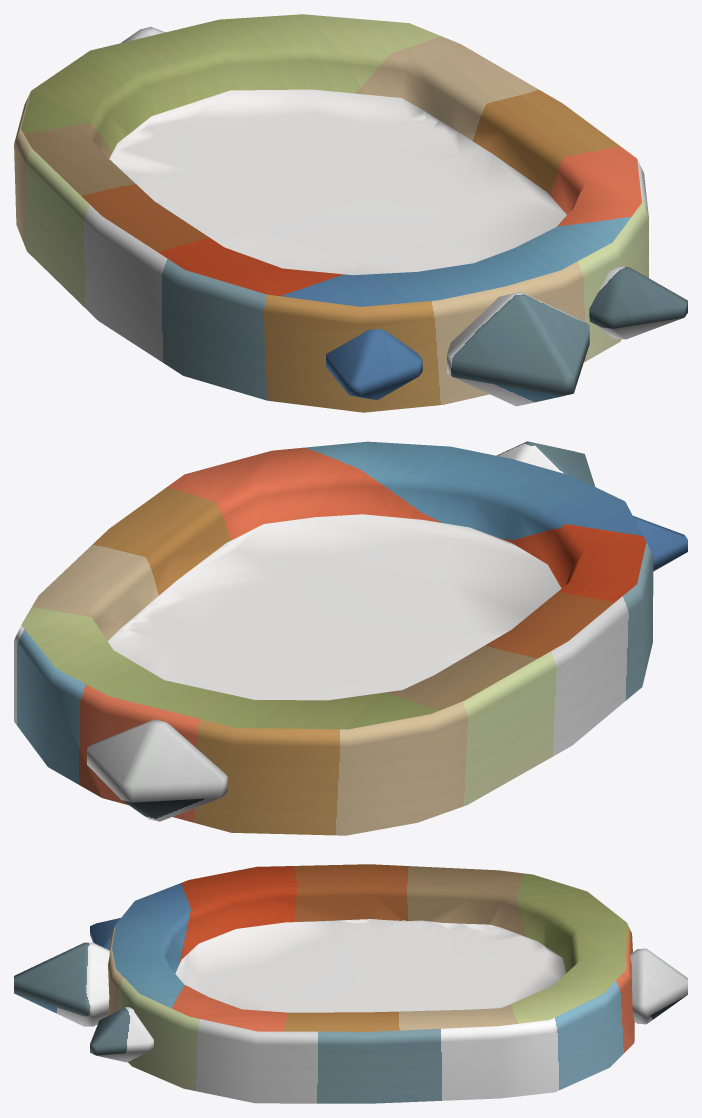
File: P_AP24WallPhotos_02.glb
The picture shows the model from 3 angles, top to bottom: view 1: azimuth 30°, elevation 25°; view 2: azimuth 150°, elevation 25°; view 3: azimuth 270°, elevation 25°; orthographic projection. The views are drawn at different scales.
Parts seen in each view (by area): view 1: P_AP24WallPhotos_02; view 2: P_AP24WallPhotos_02; view 3: P_AP24WallPhotos_02.
Boxes of the visible parts, left/top/right/bottom form: P_AP24WallPhotos_02: left=14, top=14, right=687, bottom=412; P_AP24WallPhotos_02: left=14, top=441, right=687, bottom=835; P_AP24WallPhotos_02: left=14, top=864, right=687, bottom=1103.
Bounding box in the file's own units: 0.3309 × 0.0723 × 0.5479.
Materials: 1 (1 with a texture image).
